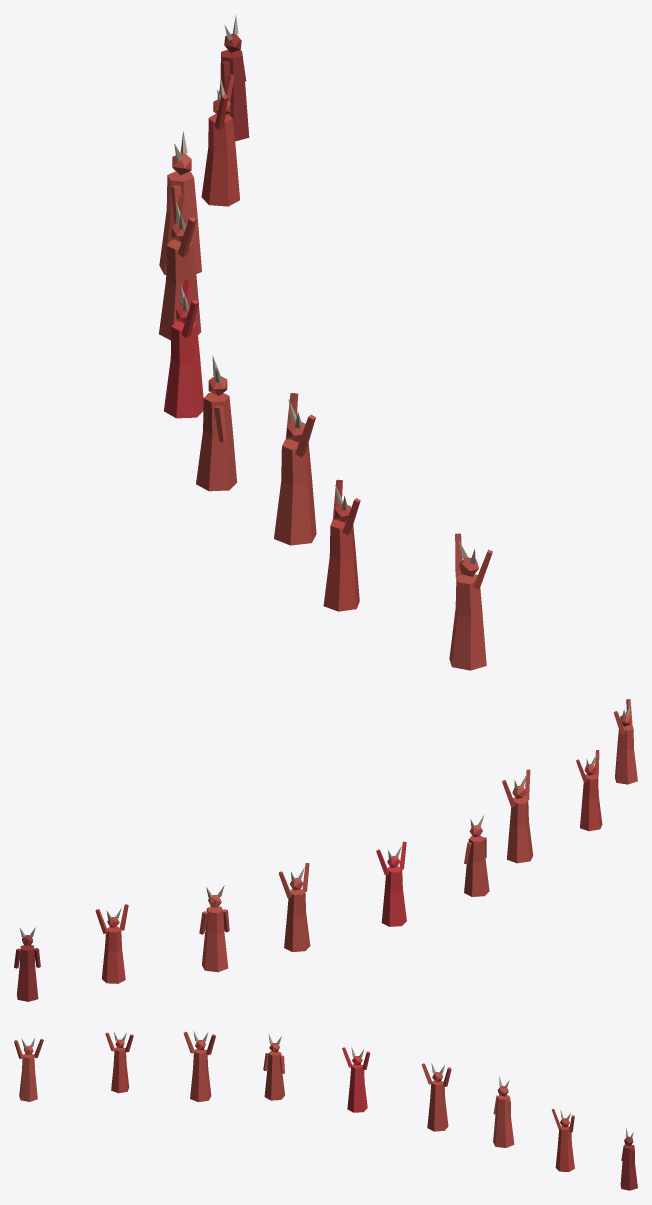
Rendered from Stands_5_0_0_Ice.obj.
3 views of the same model, one above another, from view 1: azimuth 30°, elevation 25°; view 2: azimuth 150°, elevation 25°; view 3: azimuth 270°, elevation 25° (orthographic). The views are drawn at different scales.
Parts seen in each view (by area): view 1: Stands_5_0_0_Ice; view 2: Stands_5_0_0_Ice; view 3: Stands_5_0_0_Ice.
Part boxes in pixels (x1,y1,x2,y2): Stands_5_0_0_Ice: (159, 15, 492, 670); Stands_5_0_0_Ice: (14, 699, 637, 1001); Stands_5_0_0_Ice: (14, 1030, 637, 1190).
Size of the model in its own units: 13.49 by 3.94 by 33.65.
Materials: 1 (1 with a texture image).
